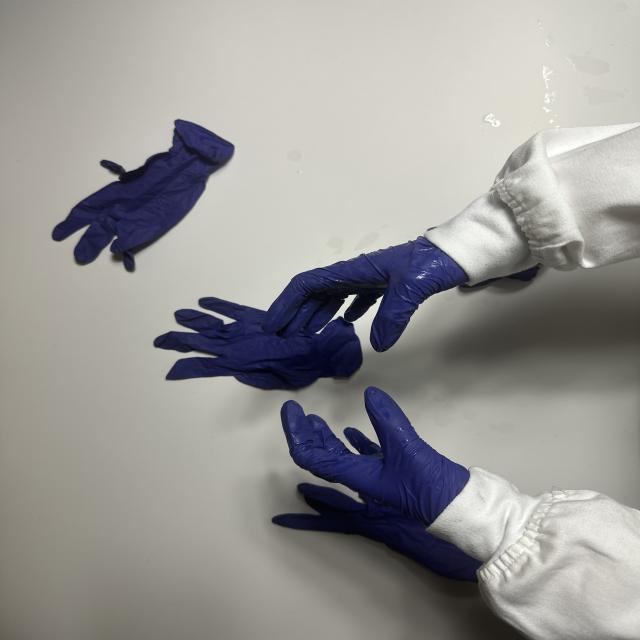gloves_contaminated: (281, 387, 469, 526), (262, 236, 470, 352)
